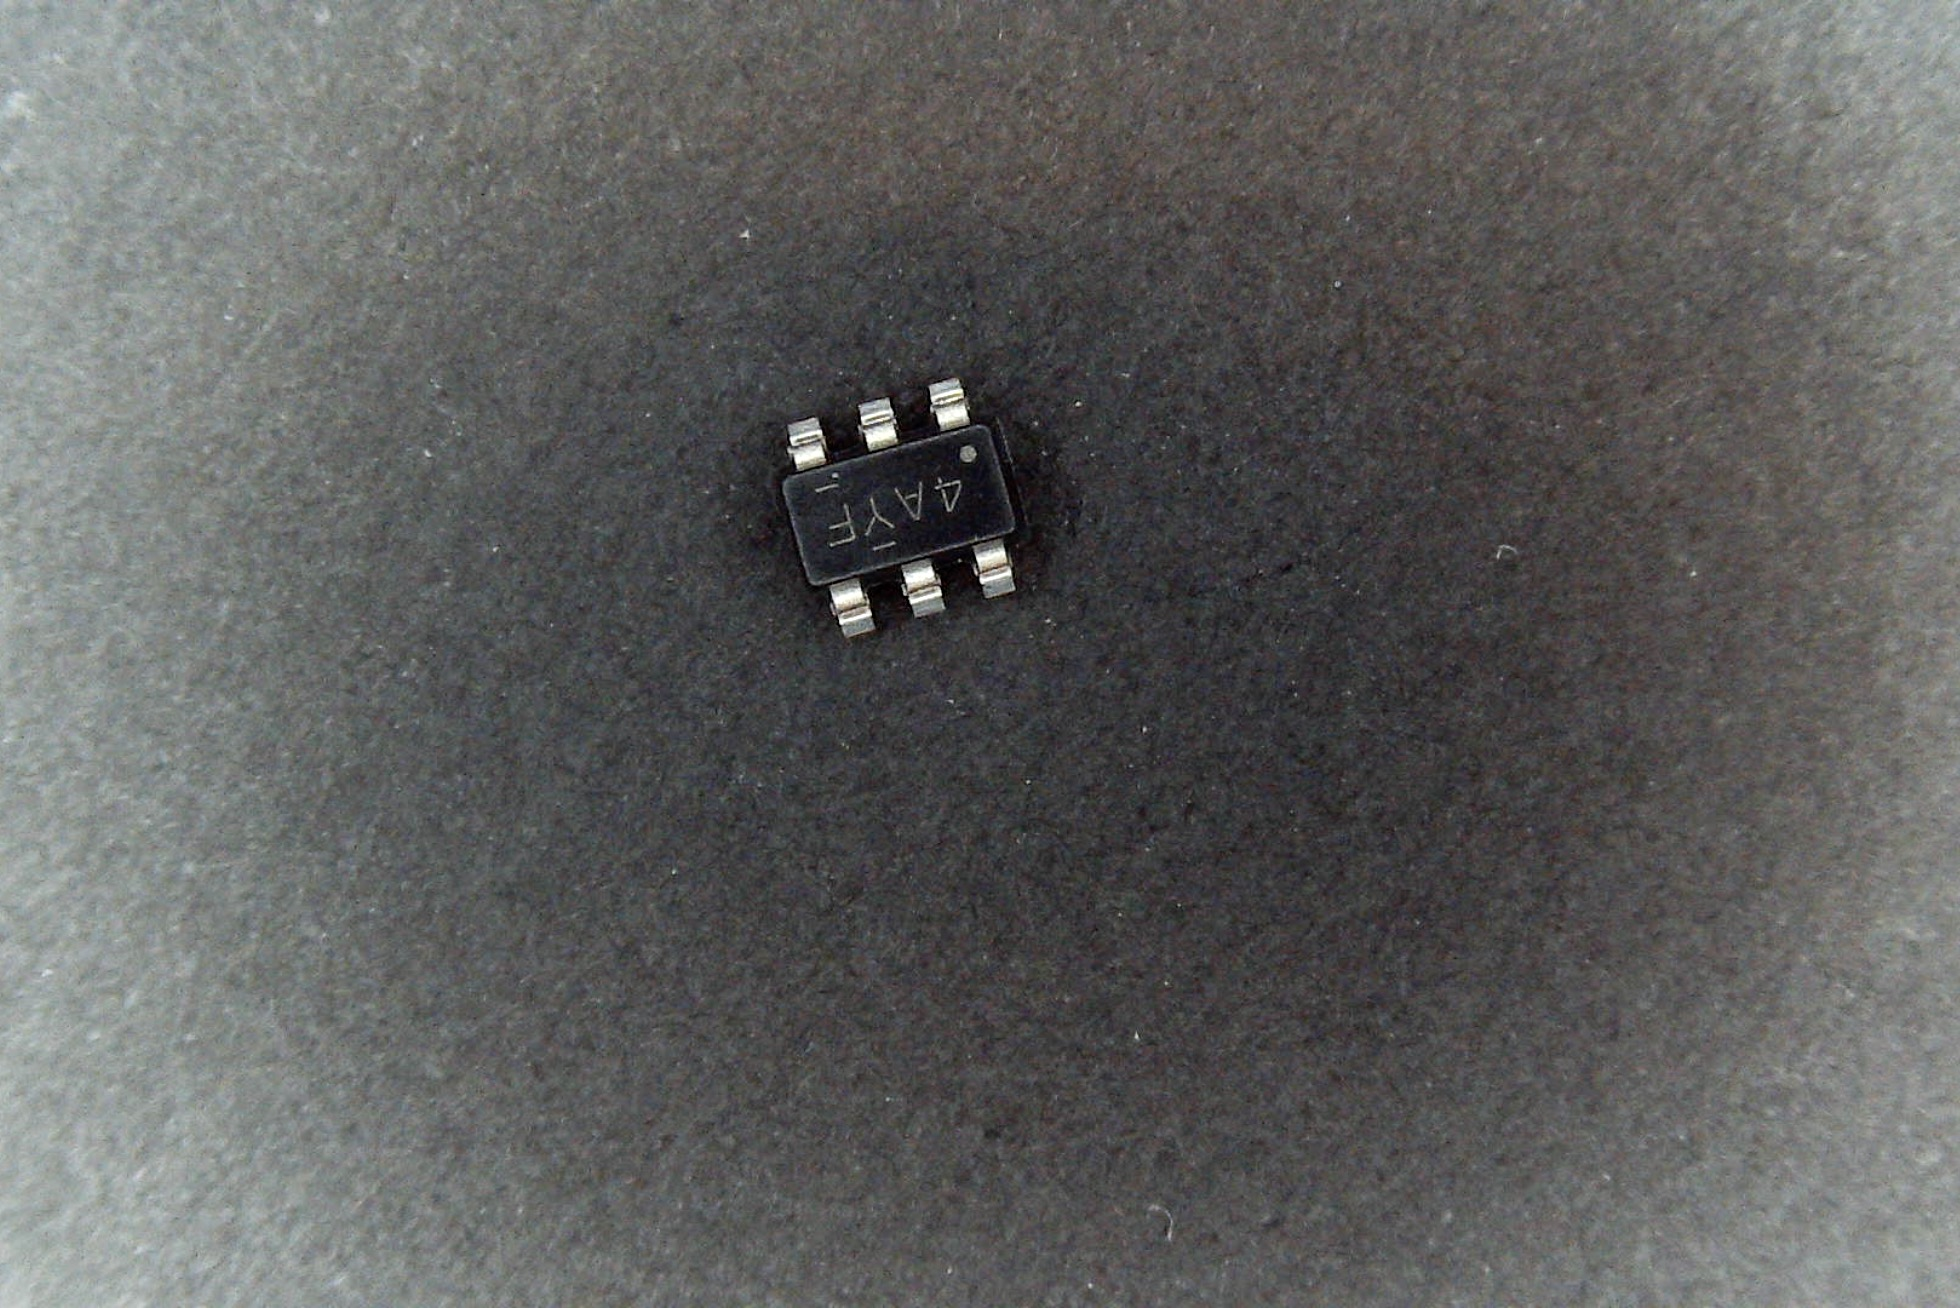bbox: (757, 362, 1036, 650)
